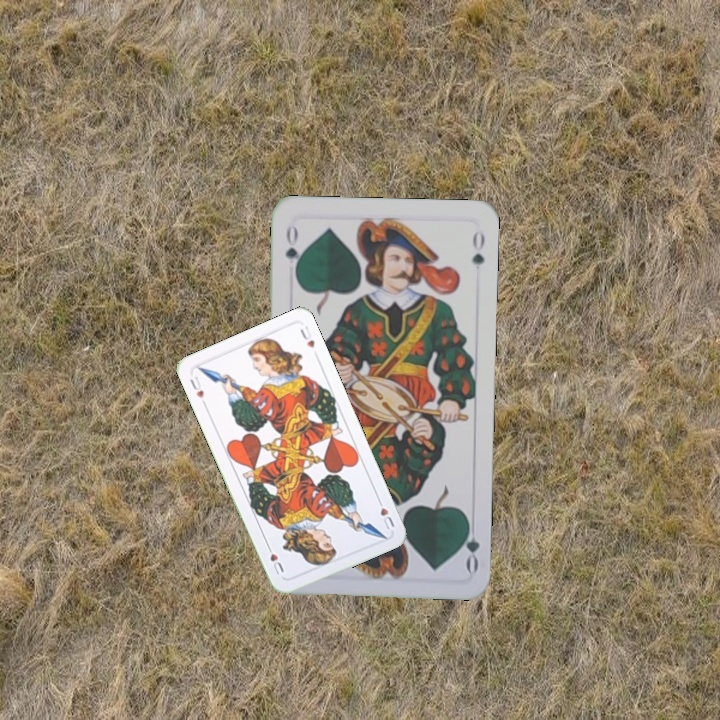GO: (456, 515, 482, 574), (281, 220, 304, 279)
HU: (373, 494, 397, 532), (186, 372, 209, 408)
